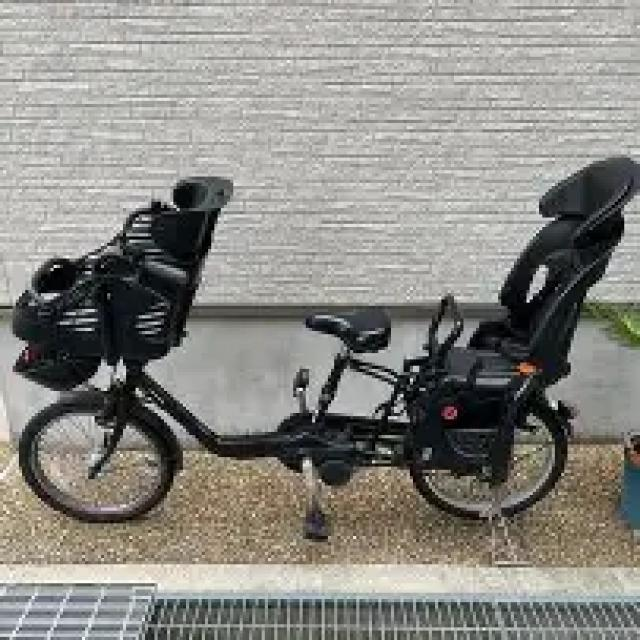childseat: (400, 156, 640, 471), (15, 172, 237, 386)
